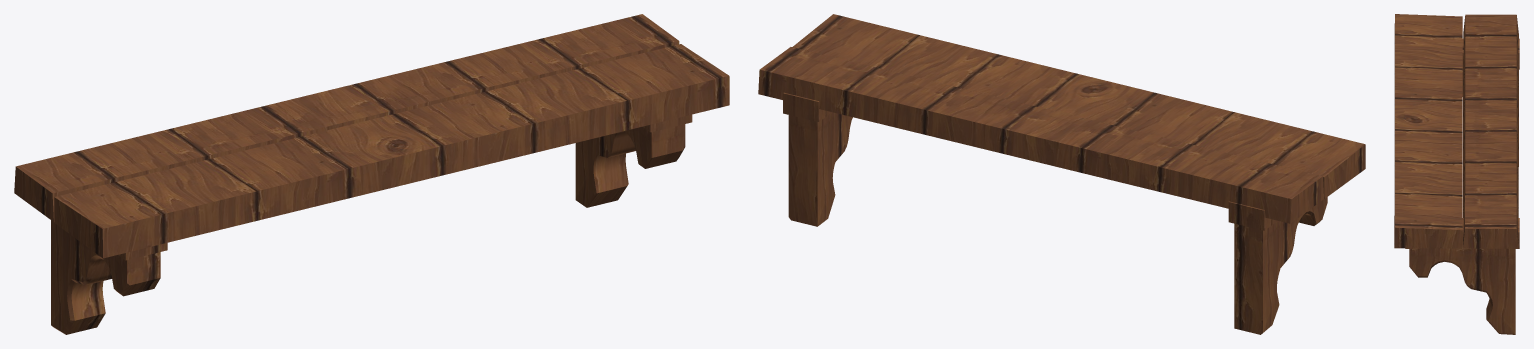
File: furn_shelf_wall.glb
The picture shows the model from 3 angles, left to right: view 1: azimuth 30°, elevation 25°; view 2: azimuth 150°, elevation 25°; view 3: azimuth 270°, elevation 25°; orthographic projection. The views are drawn at different scales.
Visible parts, largest first — view 1: model; view 2: model; view 3: model.
Part boxes in pixels (x1=…): model: x1=14, y1=14, x2=729, y2=334; model: x1=758, y1=14, x2=1365, y2=334; model: x1=1394, y1=14, x2=1519, y2=334.
Bounding box in the file's own units: 1.18 × 0.3087 × 0.2923.
1 material, 1 textured.
